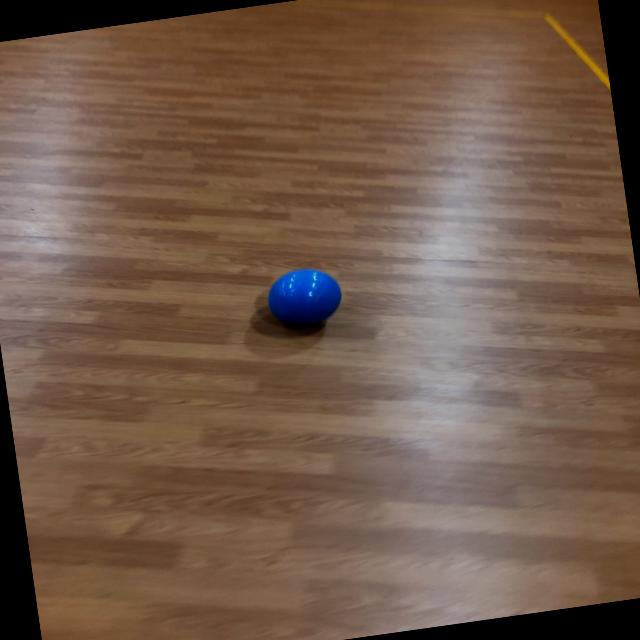blue_ball: (256, 262, 351, 336)
